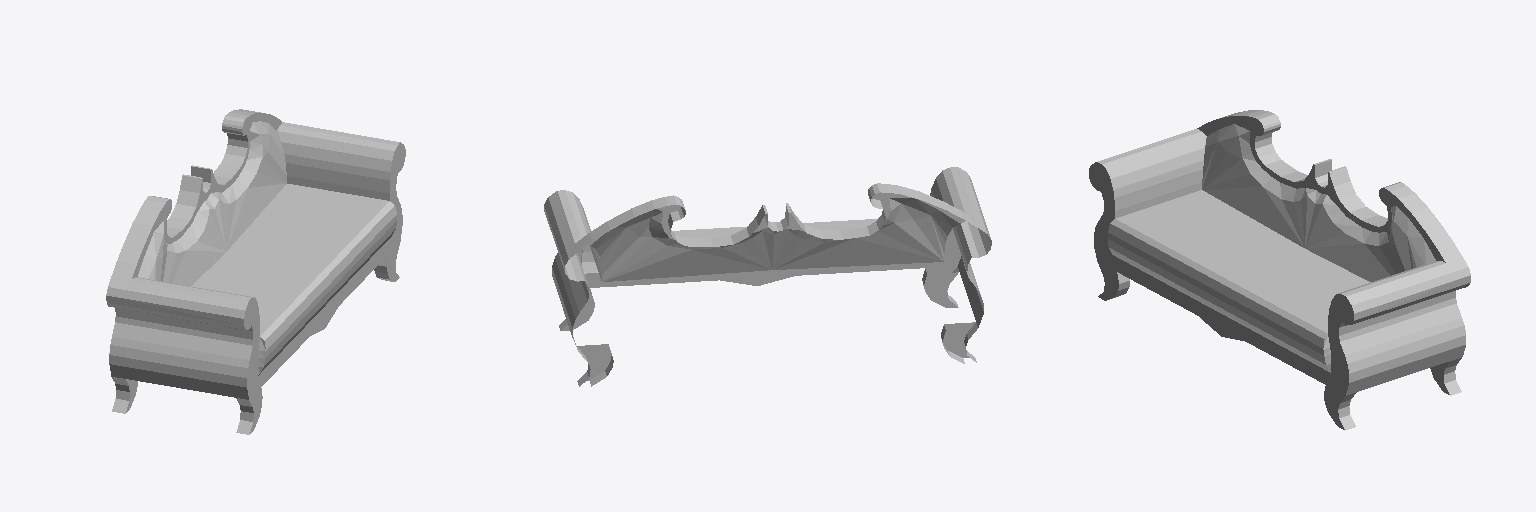
The model's file is ma_sofa_a.obj.
3 views of the same model, side by side, from view 1: azimuth 30°, elevation 25°; view 2: azimuth 150°, elevation 25°; view 3: azimuth 270°, elevation 25° (orthographic).
Parts seen in each view (by area): view 1: ma_sofa_a; view 2: ma_sofa_a; view 3: ma_sofa_a.
Boxes of the visible parts, box(x1,y1,x2,y2) form: ma_sofa_a: box(106, 109, 405, 434); ma_sofa_a: box(544, 167, 991, 386); ma_sofa_a: box(1089, 110, 1470, 430).
Size of the model in its own units: 304 by 138 by 269.